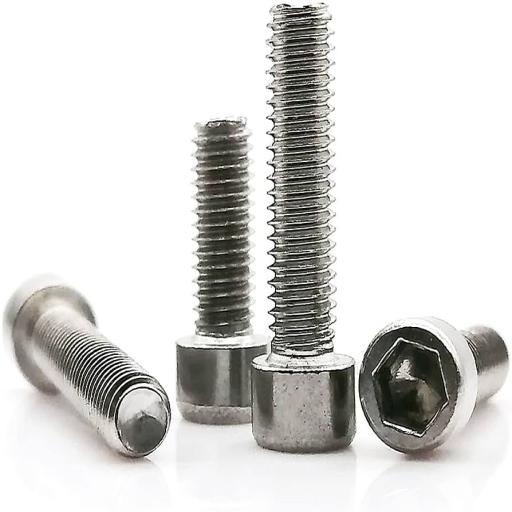Hex-Allen: (359, 312, 479, 458)
